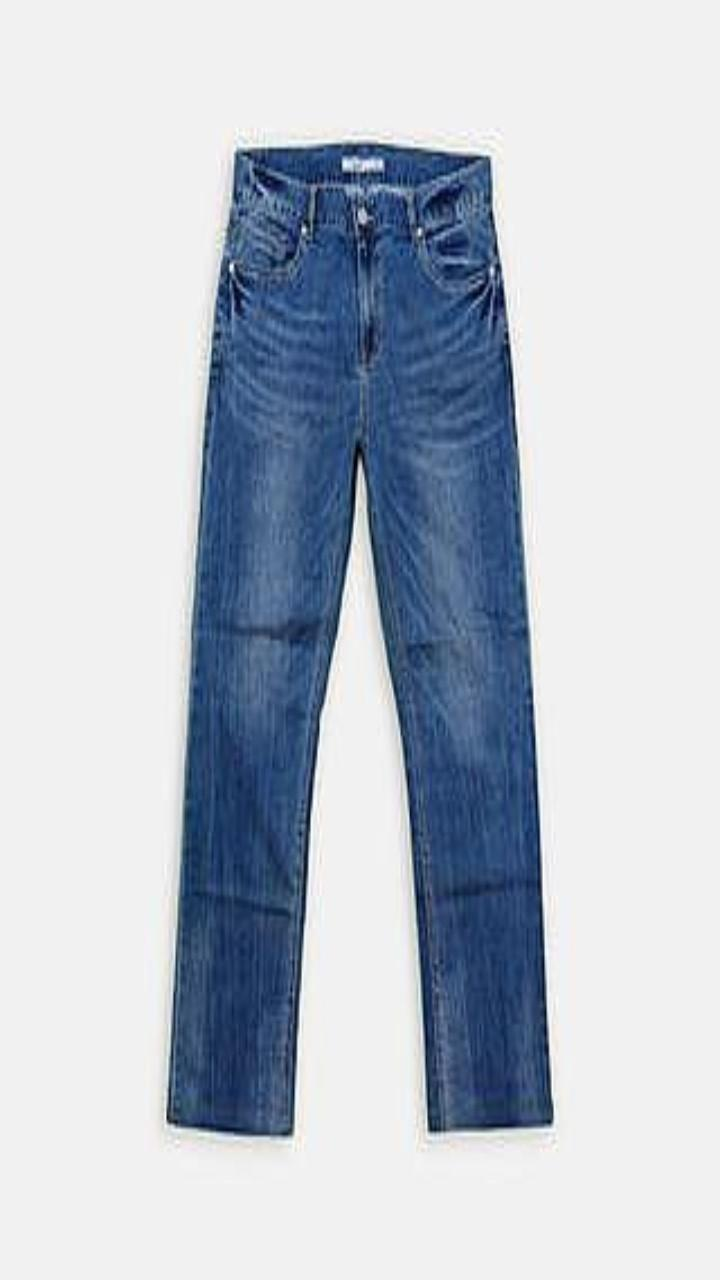Jeans: (168, 144, 551, 1133)
